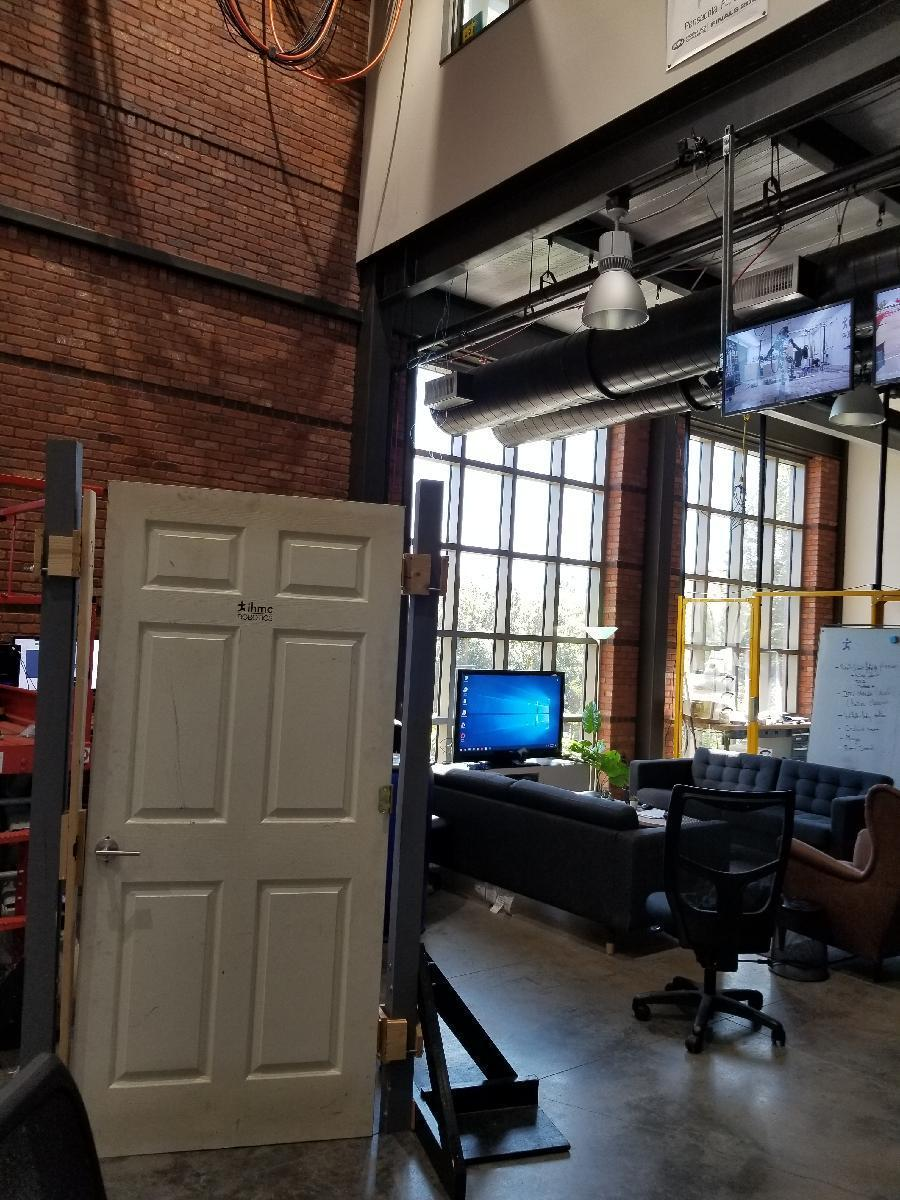door: (106, 478, 382, 1147)
handle: (93, 835, 144, 866)
